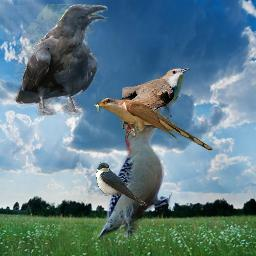Crow: (14, 4, 108, 116)
Cuckoo: (92, 97, 213, 151), (122, 68, 190, 120)
Swallow: (96, 162, 147, 206)
Woodpecker: (96, 115, 172, 241)
